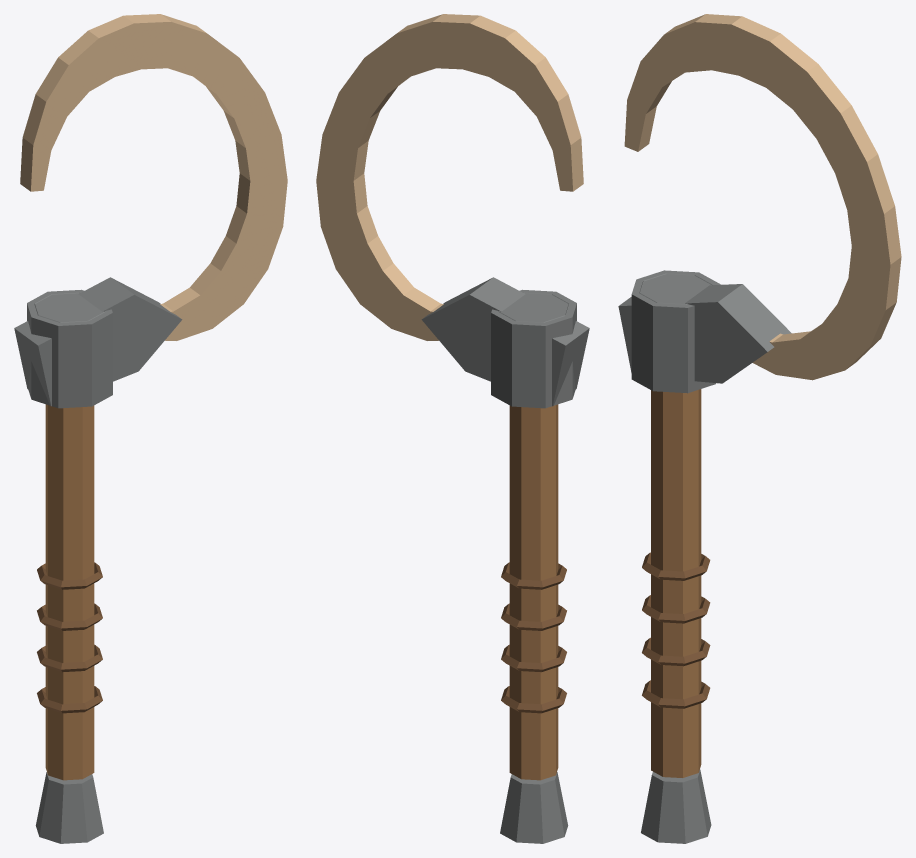
The model's file is t2_sickle.glb.
3 views of the same model, side by side, from view 1: azimuth 30°, elevation 25°; view 2: azimuth 150°, elevation 25°; view 3: azimuth 330°, elevation 25° (orthographic). The views are drawn at different scales.
Visible parts, largest first — view 1: CurvedBlade, WoodHandle, BladeSocket, BladeBasePlate, BottomPommel, LeatherWrap3, LeatherWrap1, LeatherWrap4, LeatherWrap2; view 2: CurvedBlade, WoodHandle, BladeSocket, BladeBasePlate, BottomPommel, LeatherWrap3, LeatherWrap1, LeatherWrap4, LeatherWrap2; view 3: CurvedBlade, WoodHandle, BladeSocket, BladeBasePlate, BottomPommel, LeatherWrap4, LeatherWrap2, LeatherWrap3, LeatherWrap1.
Part boxes in pixels (box(x1,y1,x2,y2)): CurvedBlade: box(20, 14, 287, 340); WoodHandle: box(45, 404, 94, 780); BladeSocket: box(27, 289, 112, 408); BladeBasePlate: box(14, 277, 182, 406); BottomPommel: box(35, 772, 103, 843); LeatherWrap3: box(37, 603, 102, 630); LeatherWrap1: box(37, 686, 102, 713); LeatherWrap4: box(37, 562, 102, 589); LeatherWrap2: box(37, 644, 102, 672); CurvedBlade: box(316, 14, 583, 340); WoodHandle: box(509, 404, 558, 780); BladeSocket: box(491, 289, 576, 408); BladeBasePlate: box(421, 277, 589, 406); BottomPommel: box(500, 772, 568, 843); LeatherWrap3: box(501, 603, 566, 630); LeatherWrap1: box(501, 686, 566, 713); LeatherWrap4: box(501, 562, 566, 589); LeatherWrap2: box(501, 644, 566, 672); CurvedBlade: box(624, 14, 901, 380); WoodHandle: box(651, 389, 701, 777); BladeSocket: box(631, 270, 720, 393); BladeBasePlate: box(618, 284, 791, 383); BottomPommel: box(641, 769, 711, 843); LeatherWrap4: box(642, 552, 710, 580); LeatherWrap2: box(642, 637, 710, 666); LeatherWrap3: box(642, 595, 710, 623); LeatherWrap1: box(642, 680, 710, 708).
Bounding box in the file's own units: 0.5877 × 1.74 × 0.176.
